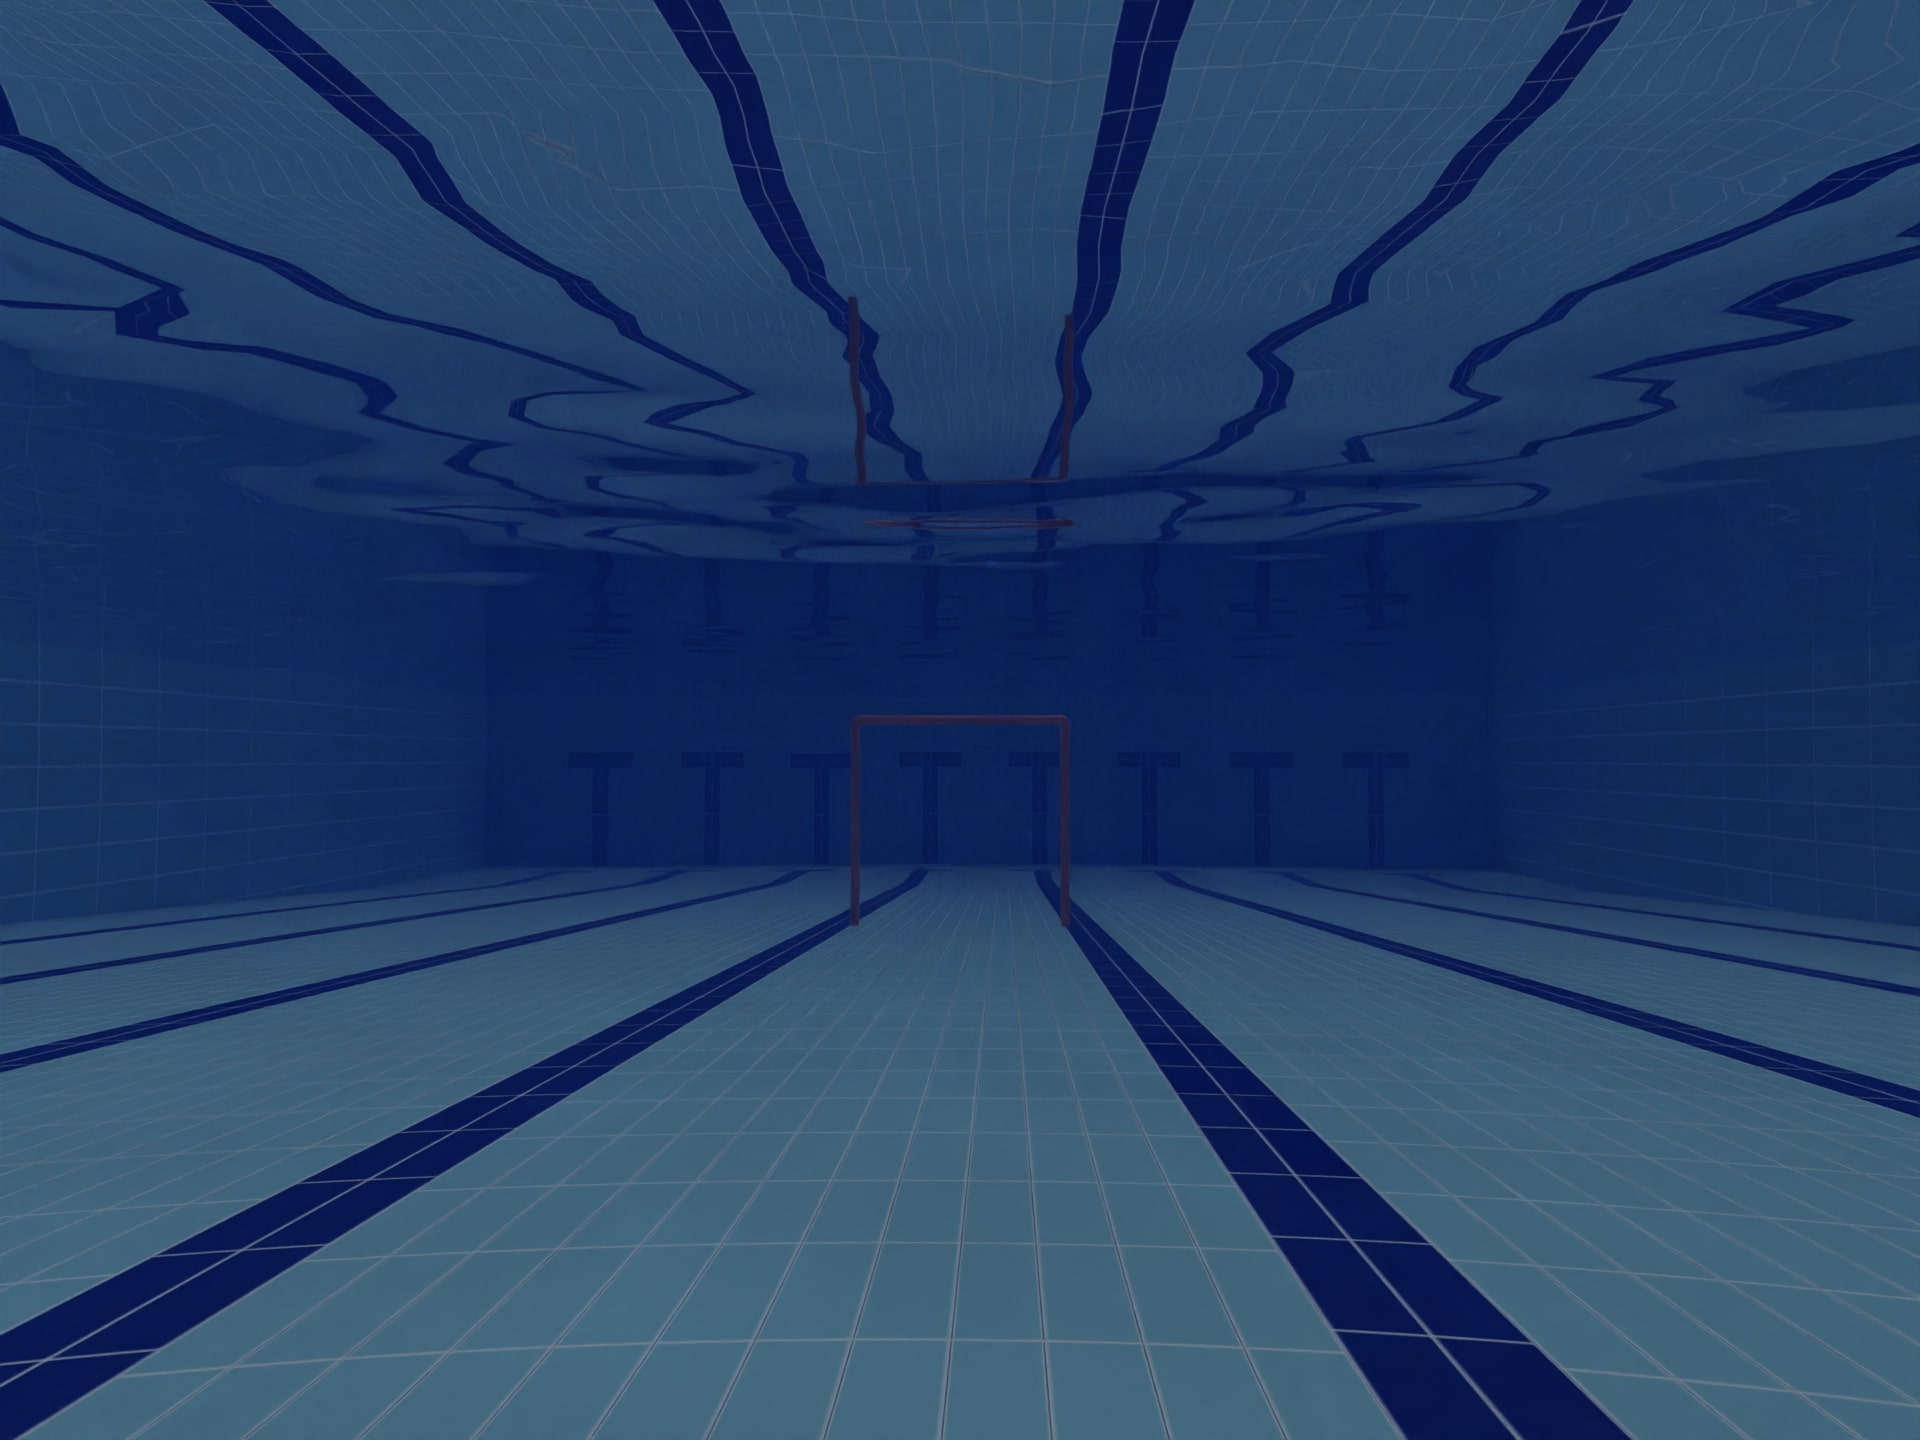gate: (813, 690, 1113, 953)
